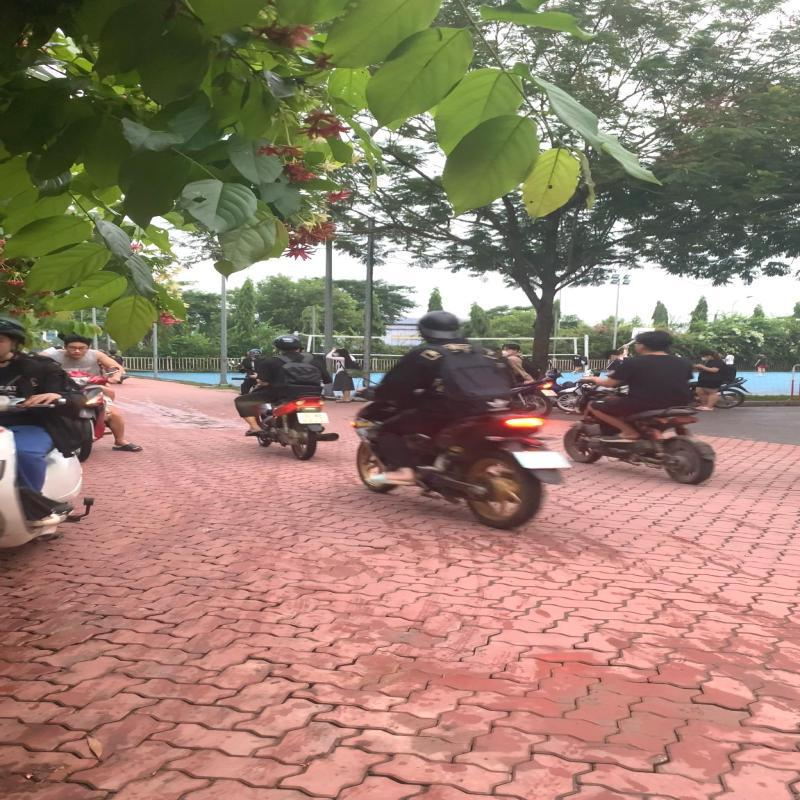helmet: (272, 334, 304, 352)
licenseplate: (296, 411, 330, 424)
motorcyclist: (230, 333, 342, 462)
